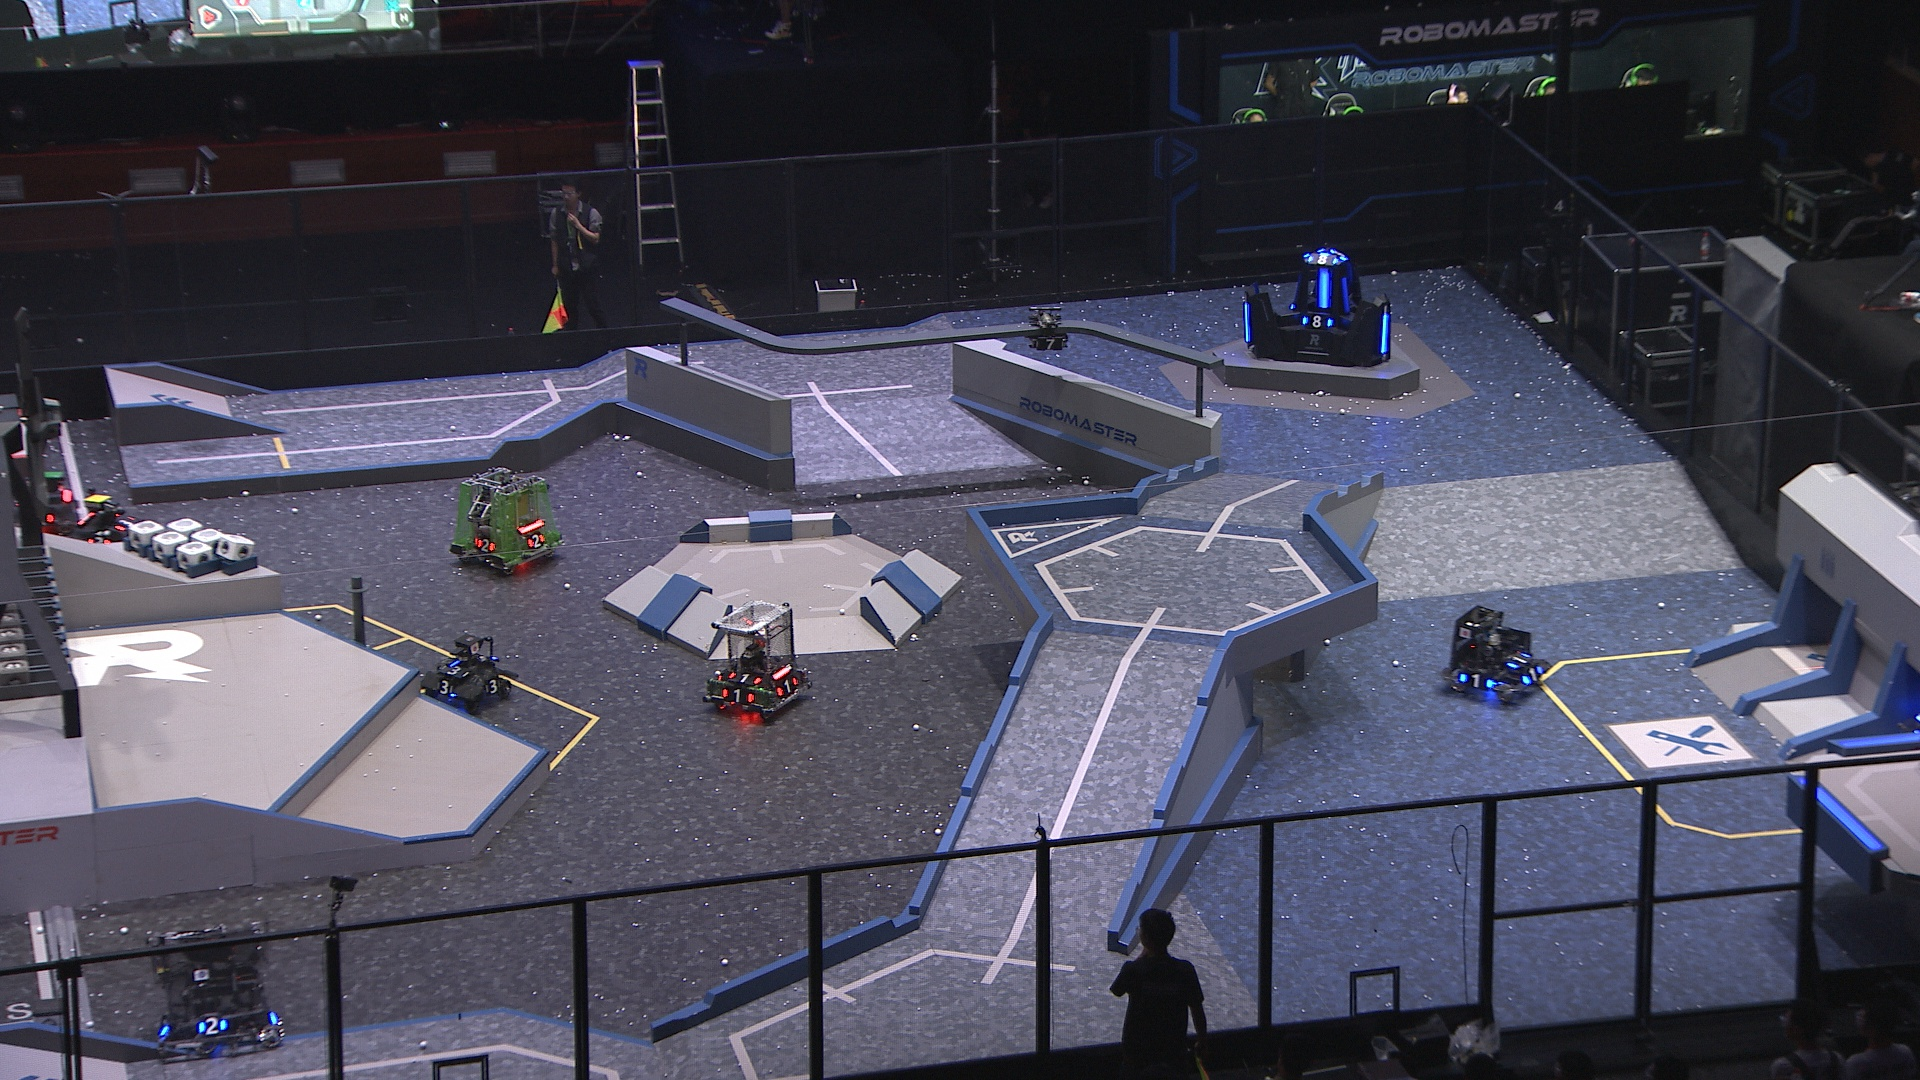armor: (193, 1015, 229, 1038), (1458, 671, 1495, 690), (1316, 270, 1333, 310), (1377, 311, 1391, 356), (1505, 647, 1534, 669), (717, 688, 756, 704), (775, 674, 800, 695), (1034, 338, 1067, 353), (724, 671, 764, 684), (438, 662, 471, 678), (1300, 314, 1335, 328), (1305, 253, 1342, 266), (1522, 662, 1543, 684), (112, 513, 136, 533), (1340, 276, 1352, 314), (1242, 302, 1253, 344), (524, 531, 547, 549), (473, 537, 498, 553), (436, 679, 456, 698), (483, 679, 500, 694)
base: (1240, 245, 1391, 368)
car: (145, 916, 286, 1058), (702, 597, 811, 723), (446, 471, 564, 575), (1443, 603, 1549, 707), (418, 632, 518, 717), (67, 491, 146, 564), (11, 465, 82, 534)
watcher: (1025, 302, 1069, 353)
